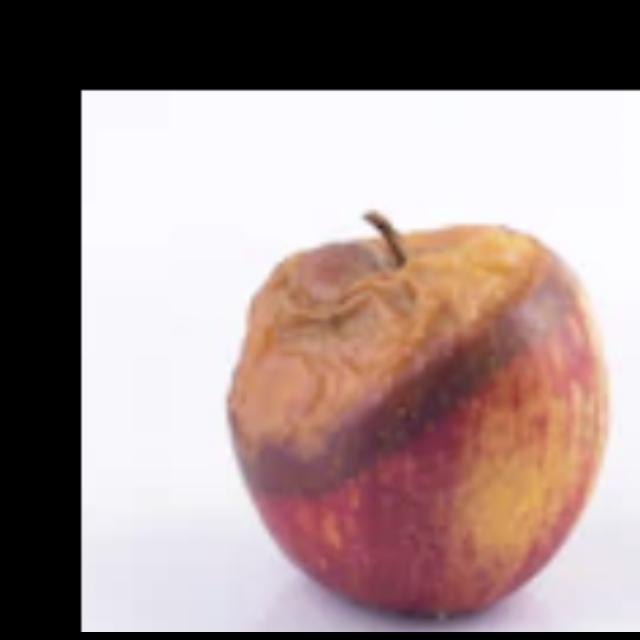Apel Tidak Segar: (220, 195, 618, 631)
